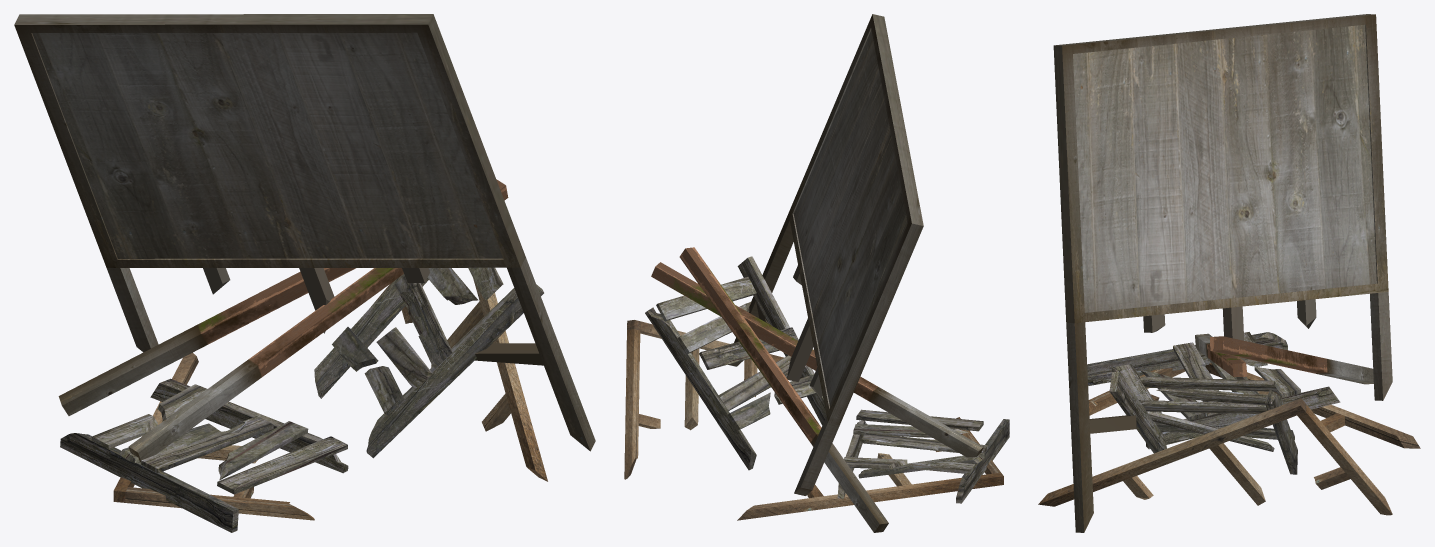
Rendered from Gareki3.fbx.
The picture shows the model from 3 angles, left to right: view 1: azimuth 30°, elevation 25°; view 2: azimuth 150°, elevation 25°; view 3: azimuth 270°, elevation 25°; orthographic projection. The views are drawn at different scales.
Parts seen in each view (by area): view 1: pCube18, pCube11, pCube12, polySurface16, polySurface9, polySurface19, polySurface11, pCube10, polySurface7, polySurface10, polySurface17, polySurface1 (+10 smaller); view 2: pCube18, pCube12, pCube11, polySurface3, polySurface19, polySurface12, polySurface16, pCube16, polySurface9, polySurface6, polySurface17, polySurface18 (+9 smaller); view 3: pCube18, polySurface11, pCube12, polySurface9, polySurface12, polySurface10, polySurface3, polySurface16, pCube16, polySurface17, polySurface18, pCube13 (+8 smaller).
Boxes of the visible parts, x1,y1,x2,y2 form: pCube18: (14,14,595,451); pCube11: (128,179,508,462); pCube12: (58,268,355,415); polySurface16: (366,284,543,458); polySurface9: (60,433,238,532); polySurface19: (314,274,428,398); polySurface11: (473,278,547,481); pCube10: (217,436,347,494); polySurface7: (141,416,273,473); polySurface10: (150,378,348,473); polySurface17: (395,275,452,368); polySurface1: (125,487,314,520); pCube18: (728,14,923,495); pCube12: (679,247,888,532); pCube11: (651,262,983,457); polySurface3: (737,472,1003,520); polySurface19: (645,307,756,470); polySurface12: (624,329,640,479); polySurface16: (737,256,826,425); pCube16: (656,277,756,321); polySurface9: (956,419,1009,503); polySurface6: (718,355,807,410); polySurface17: (699,327,798,369); polySurface18: (677,301,751,353); pCube18: (1053,14,1392,532); polySurface11: (1038,398,1306,506); pCube12: (1210,336,1373,384); polySurface9: (1087,332,1287,385); polySurface12: (1297,405,1392,515); polySurface10: (1146,386,1340,449); polySurface3: (1205,363,1420,448); polySurface16: (1109,372,1166,453); pCube16: (1140,376,1279,391); polySurface17: (1139,400,1267,414); polySurface18: (1156,388,1282,405); pCube13: (1209,443,1265,505).
Size of the model in its own units: 300 by 333 by 275.
